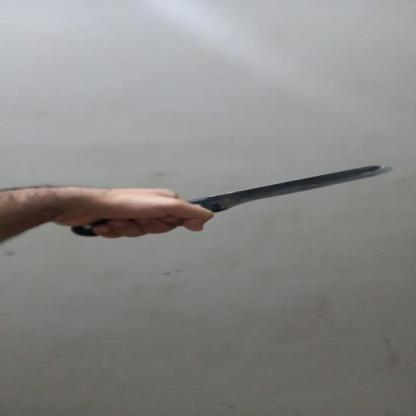Knife: (56, 162, 404, 240)
